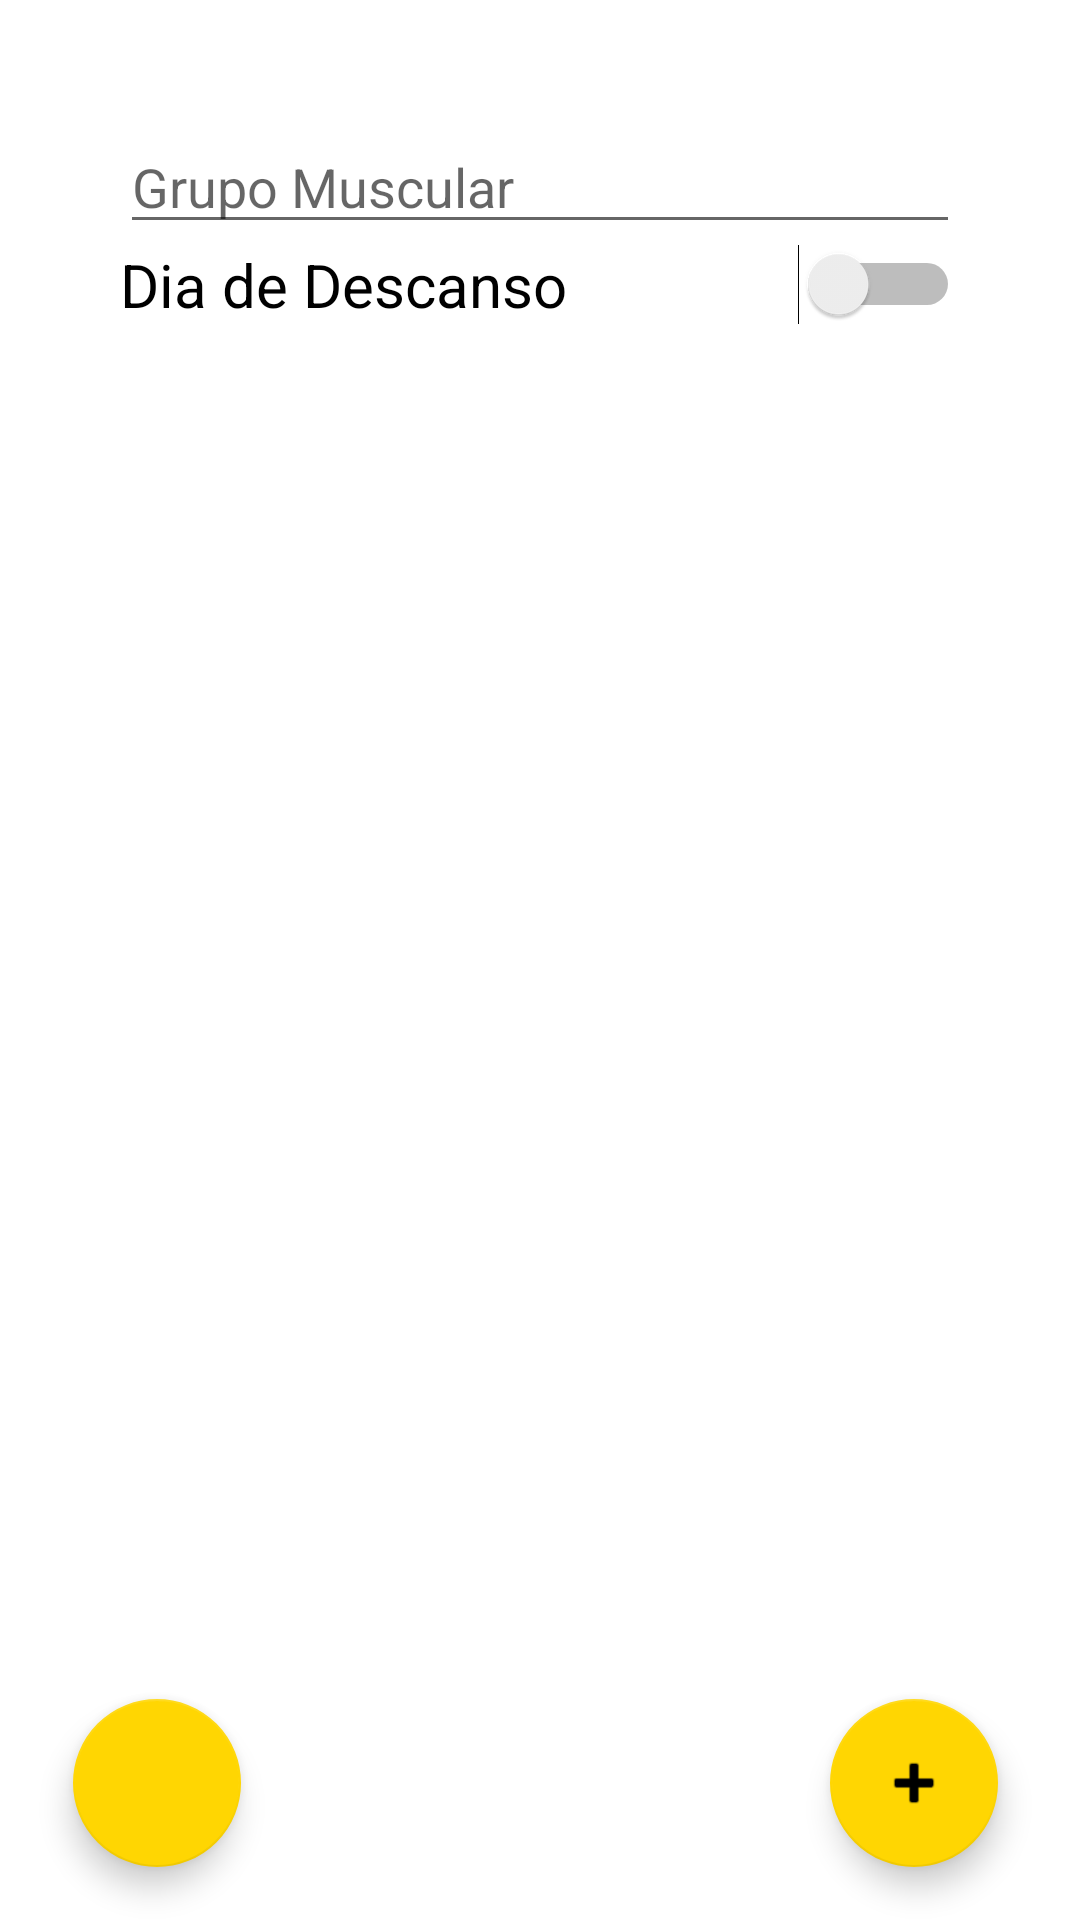

Screen size 1080px×1920px. Icon name, then its center in pixels as (x=x, y=y):
add: (x=914, y=1783)
